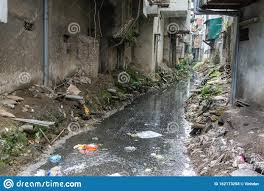garbage: (192, 79, 229, 155), (130, 128, 165, 142), (74, 141, 103, 152)
